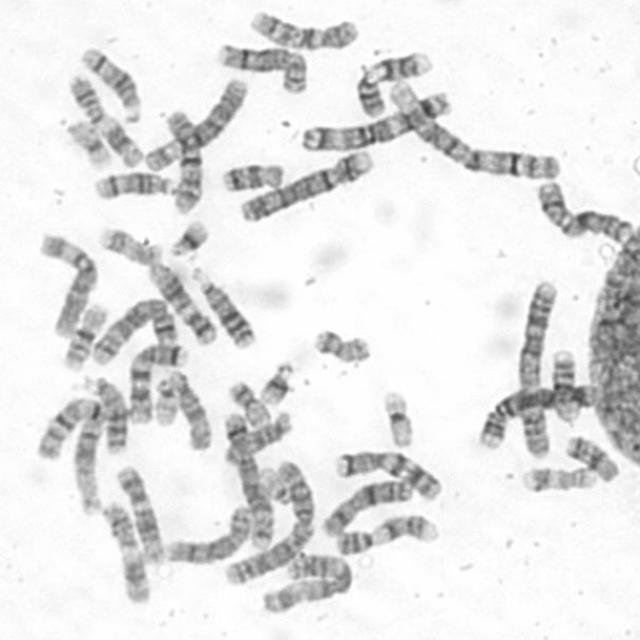A1: (382, 74, 564, 182), (34, 390, 109, 517)
A2: (220, 453, 318, 585), (511, 271, 561, 464)
A3: (294, 85, 457, 154), (258, 546, 354, 617)
B4: (237, 146, 375, 225), (472, 378, 603, 451)
B5: (218, 406, 278, 550), (87, 294, 181, 369)
C10: (242, 4, 362, 53), (162, 106, 205, 213)
C11: (64, 68, 144, 167), (99, 498, 153, 604)
C12: (143, 257, 219, 347), (112, 464, 164, 564)
C6: (140, 72, 250, 172), (33, 226, 102, 340)
C7: (329, 442, 446, 502), (123, 338, 191, 428)
C8: (157, 502, 253, 568), (211, 39, 309, 96)
C9: (354, 45, 435, 118), (334, 511, 440, 557)
D13: (186, 260, 259, 352), (78, 371, 130, 455)
D14: (78, 43, 145, 124), (89, 167, 179, 201)
D15: (218, 408, 294, 467), (164, 366, 212, 452)
E16: (59, 301, 109, 372), (548, 344, 583, 422)
E17: (95, 222, 164, 267), (519, 463, 602, 496)
E18: (562, 430, 622, 484), (218, 157, 286, 195)
F19: (62, 114, 115, 172), (377, 384, 417, 448)
F20: (308, 324, 374, 366), (226, 376, 273, 430)
G21: (255, 355, 298, 408), (165, 214, 211, 258)
G22: (251, 462, 294, 510), (150, 374, 180, 428)
X: (532, 175, 638, 246), (316, 474, 414, 538)
